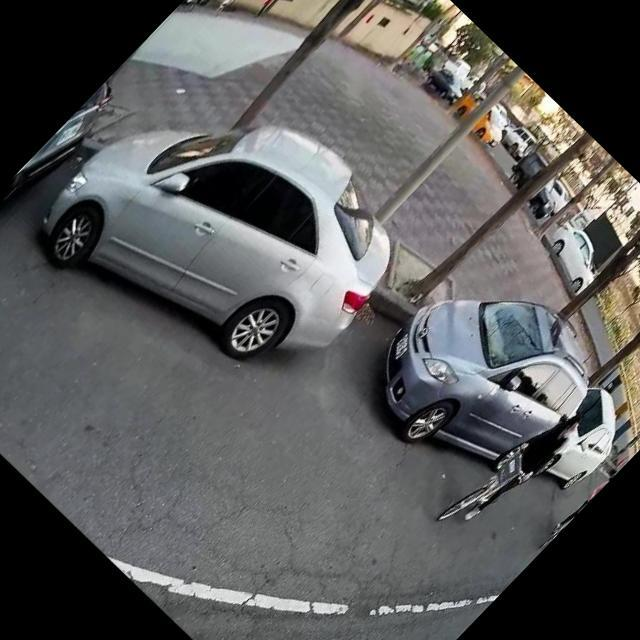person: (450, 394, 592, 540), (248, 0, 283, 21), (209, 0, 244, 17)
